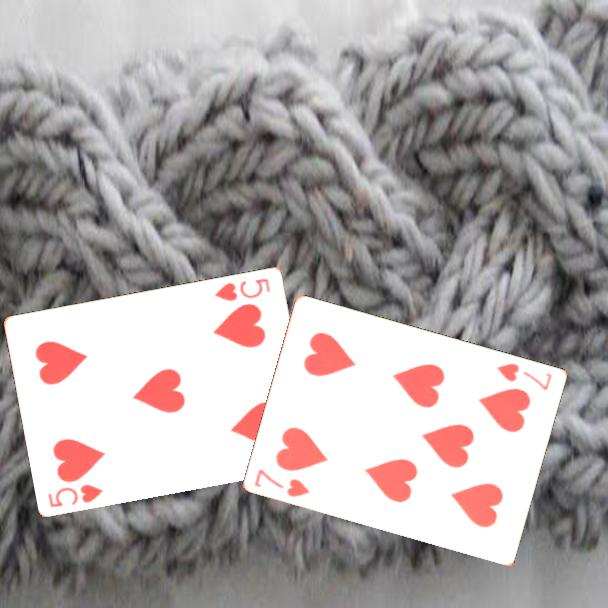h05: (211, 274, 273, 304), (45, 480, 106, 510)
h07: (251, 465, 313, 500), (494, 359, 555, 393)
